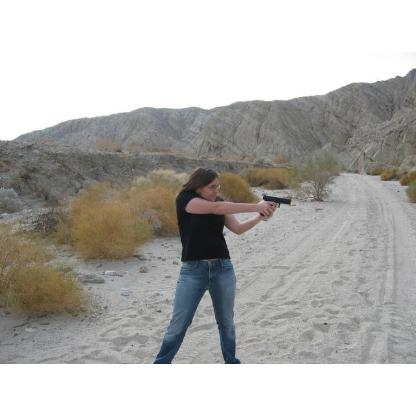gun: (260, 194, 292, 222)
